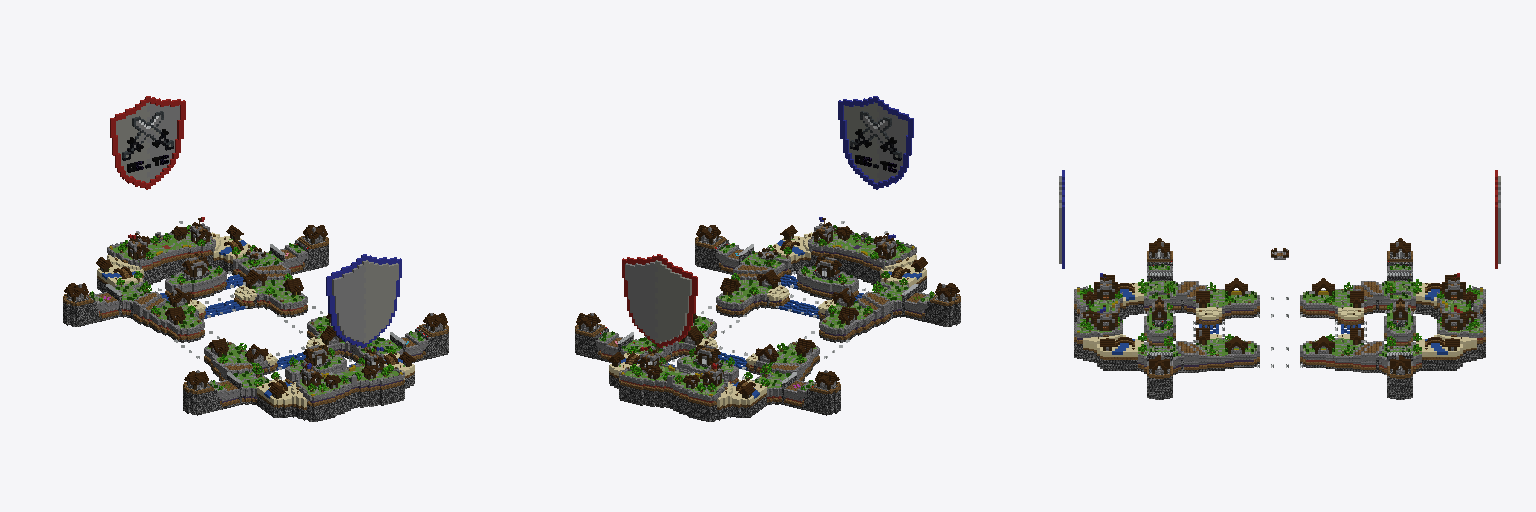
3 renders of one model, left to right at view 1: azimuth 30°, elevation 25°; view 2: azimuth 150°, elevation 25°; view 3: azimuth 270°, elevation 25°, orthographic.
Size of the model in its own units: 104 by 61 by 152.
Materials: 62 (22 with a texture image).